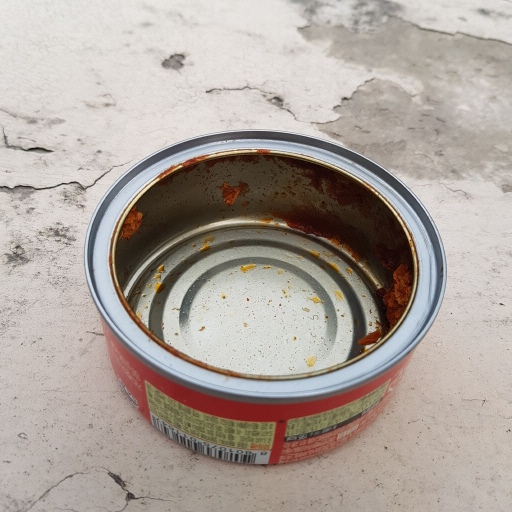Metal_1: (83, 128, 448, 464)
